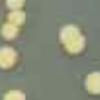yellow: (0, 45, 21, 73), (82, 70, 100, 100), (65, 34, 87, 57), (0, 23, 23, 41), (58, 23, 77, 43), (4, 11, 28, 25), (0, 88, 25, 100), (3, 0, 26, 10)
